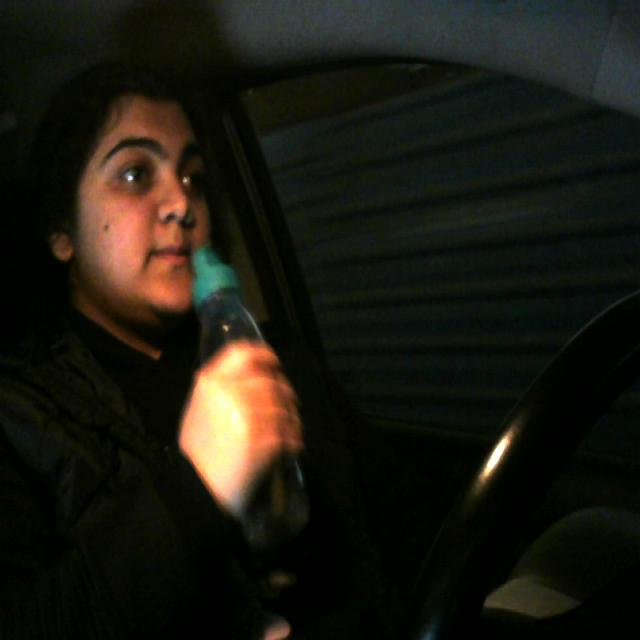drinking: (190, 253, 330, 576)
